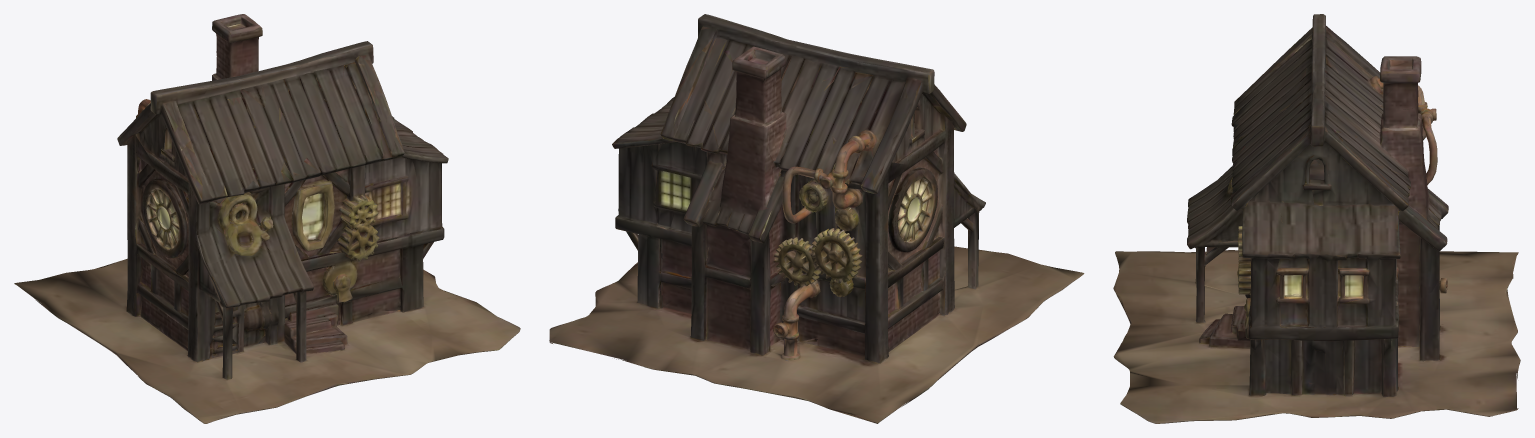
File: workshop.glb
3 views of the same model, side by side, from view 1: azimuth 30°, elevation 25°; view 2: azimuth 150°, elevation 25°; view 3: azimuth 270°, elevation 25° (orthographic). The views are drawn at different scales.
Parts seen in each view (by area): view 1: Mesh_0; view 2: Mesh_0; view 3: Mesh_0.
Boxes of the visible parts, left/top/right/bottom form: Mesh_0: left=14, top=14, right=520, bottom=423; Mesh_0: left=549, top=14, right=1084, bottom=423; Mesh_0: left=1113, top=14, right=1520, bottom=423.
Bounding box in the file's own units: 1.9 × 1.43 × 1.88.
1 material, 1 textured.
